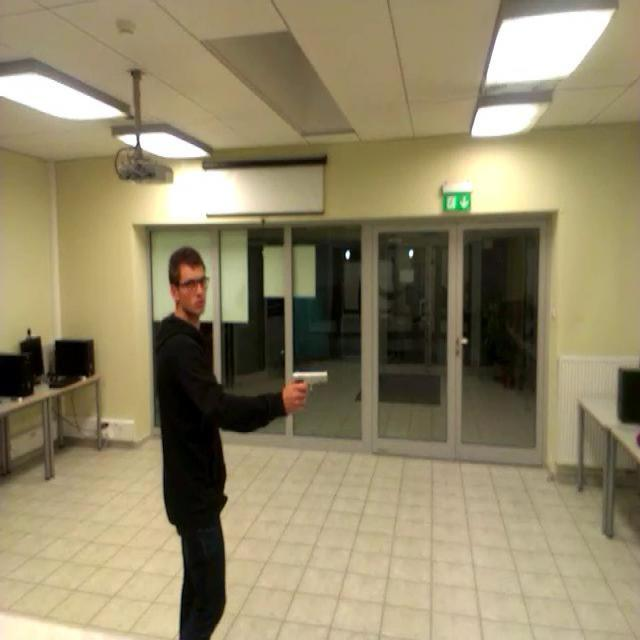weapon: (292, 372, 328, 408)
